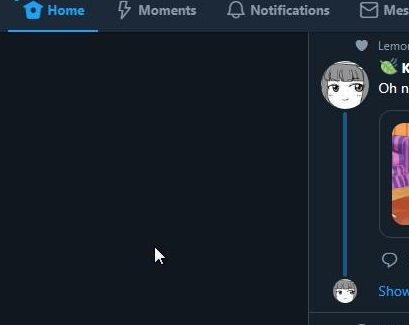cursor: (153, 246, 167, 267)
